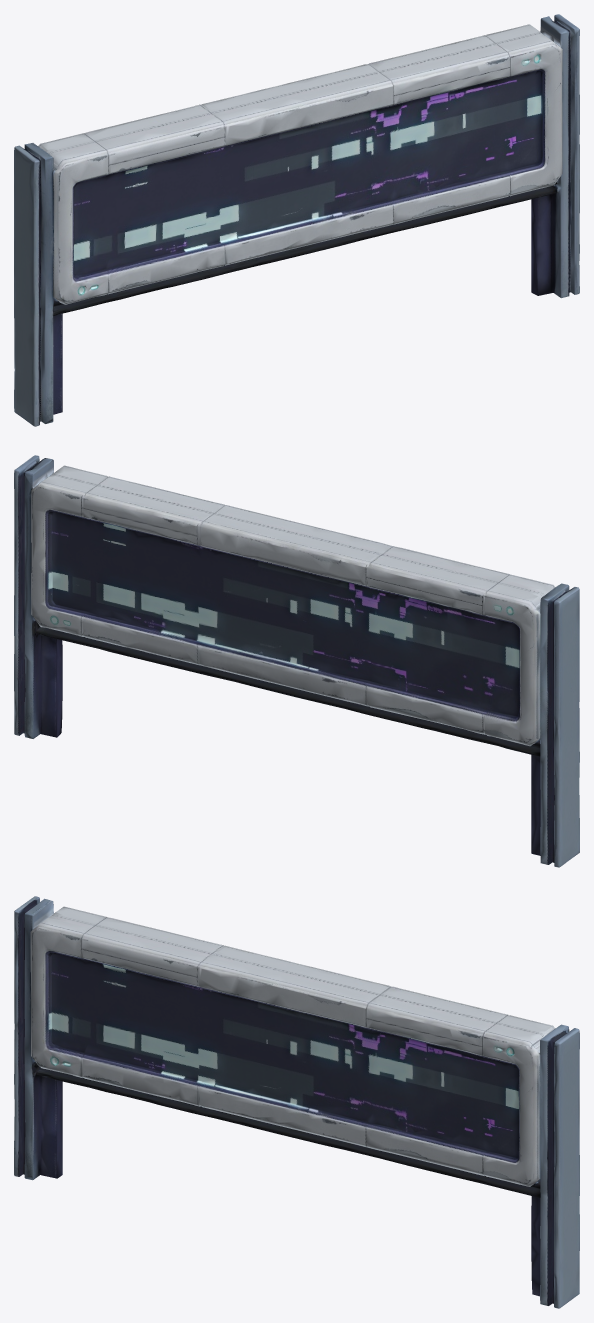
Rendered from ruined_billboard.glb.
3 renders of one model, top to bottom at view 1: azimuth 30°, elevation 25°; view 2: azimuth 150°, elevation 25°; view 3: azimuth 330°, elevation 25°, orthographic.
Visible parts, largest first — view 1: tripo_node_7312ce4c-0dbb-40f9-9ad6-65ec982ffa21; view 2: tripo_node_7312ce4c-0dbb-40f9-9ad6-65ec982ffa21; view 3: tripo_node_7312ce4c-0dbb-40f9-9ad6-65ec982ffa21.
Boxes of the visible parts, <box> form: tripo_node_7312ce4c-0dbb-40f9-9ad6-65ec982ffa21: <box>14,14,579,426</box>; tripo_node_7312ce4c-0dbb-40f9-9ad6-65ec982ffa21: <box>14,455,579,867</box>; tripo_node_7312ce4c-0dbb-40f9-9ad6-65ec982ffa21: <box>14,896,579,1308</box>.
Size of the model in its own units: 1 by 0.4649 by 0.0882.
Materials: 1 (1 with a texture image).
